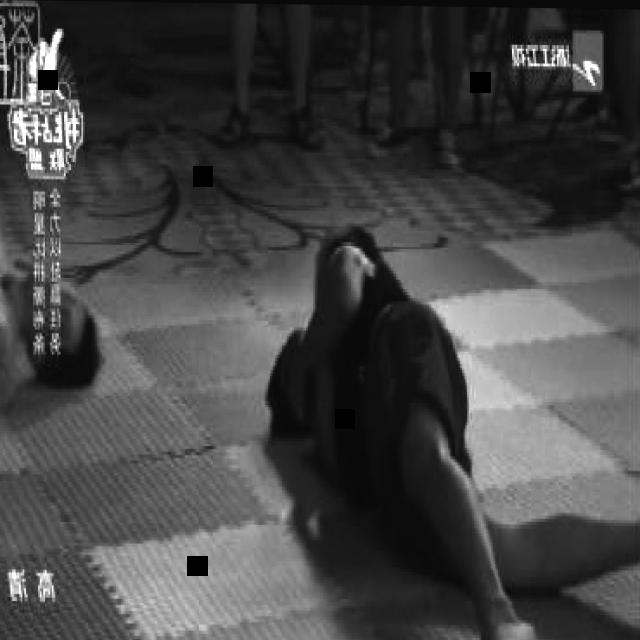Fall-Detected: (0, 34, 128, 444)
